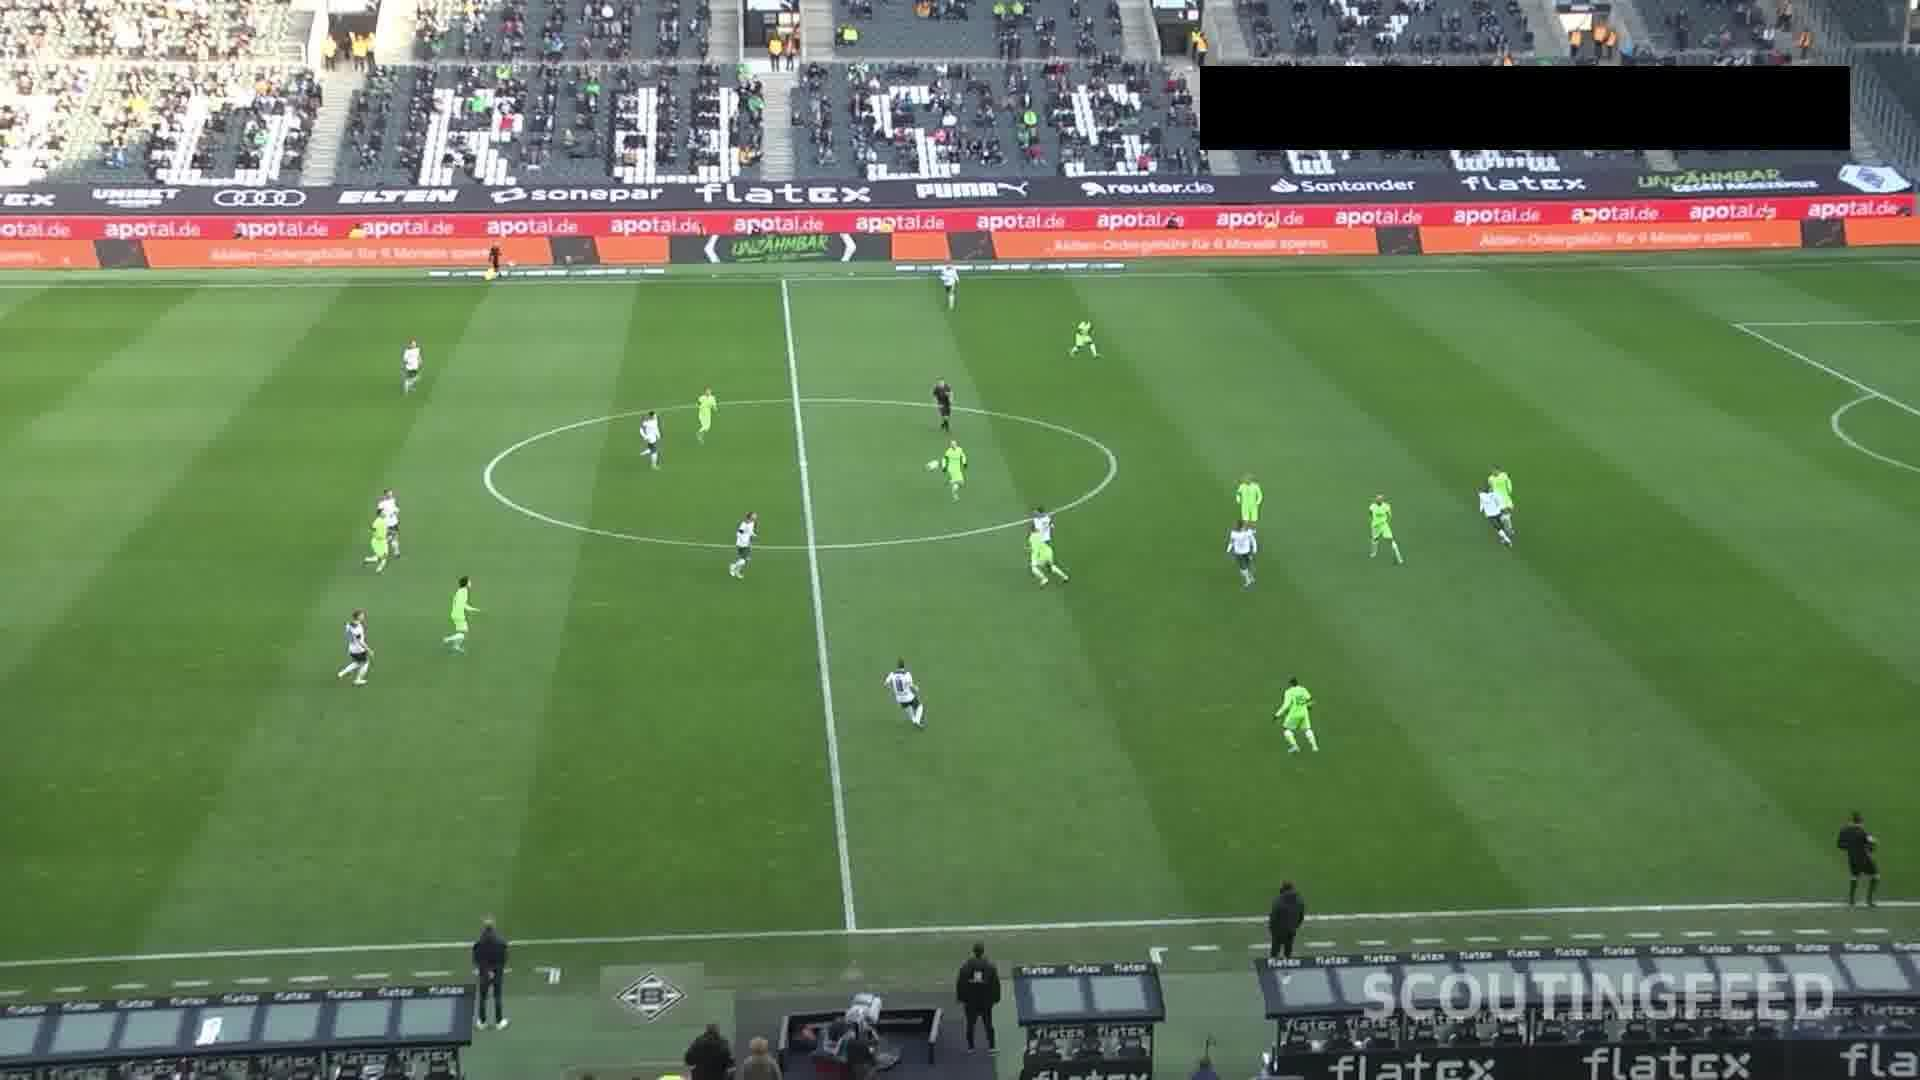football: (926, 458, 940, 472)
